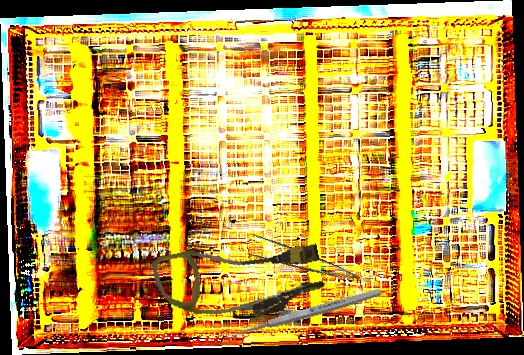Cannula: (150, 224, 329, 336)
Surgical Spoon: (220, 286, 383, 343)
Tissue Forceps: (241, 229, 371, 302)
